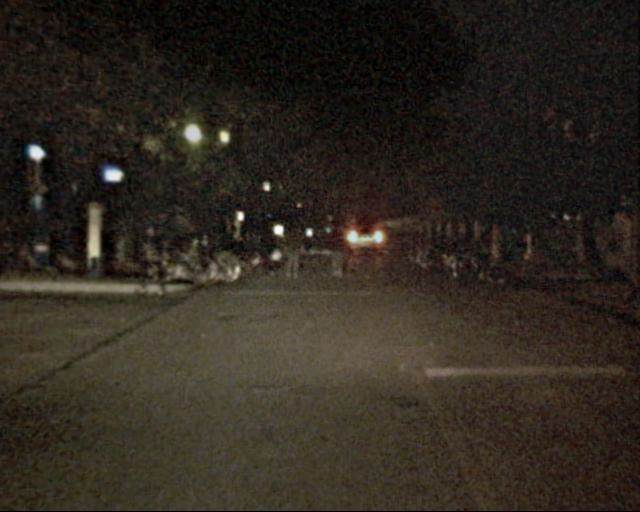person: (137, 220, 169, 297), (324, 220, 346, 285), (250, 218, 274, 277), (282, 227, 305, 286)
